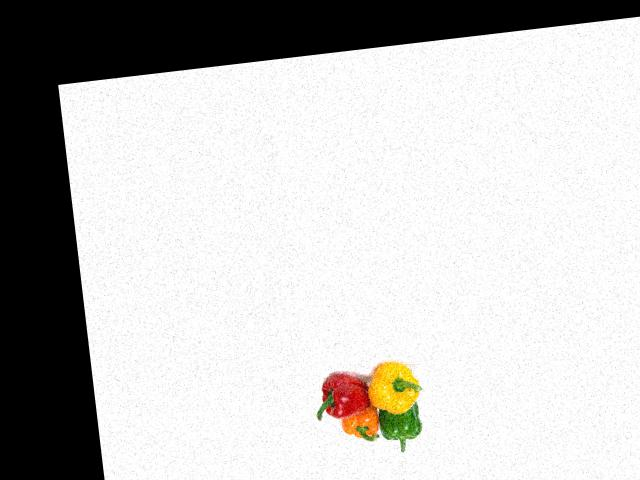bell_pepper: (362, 356, 427, 417)
